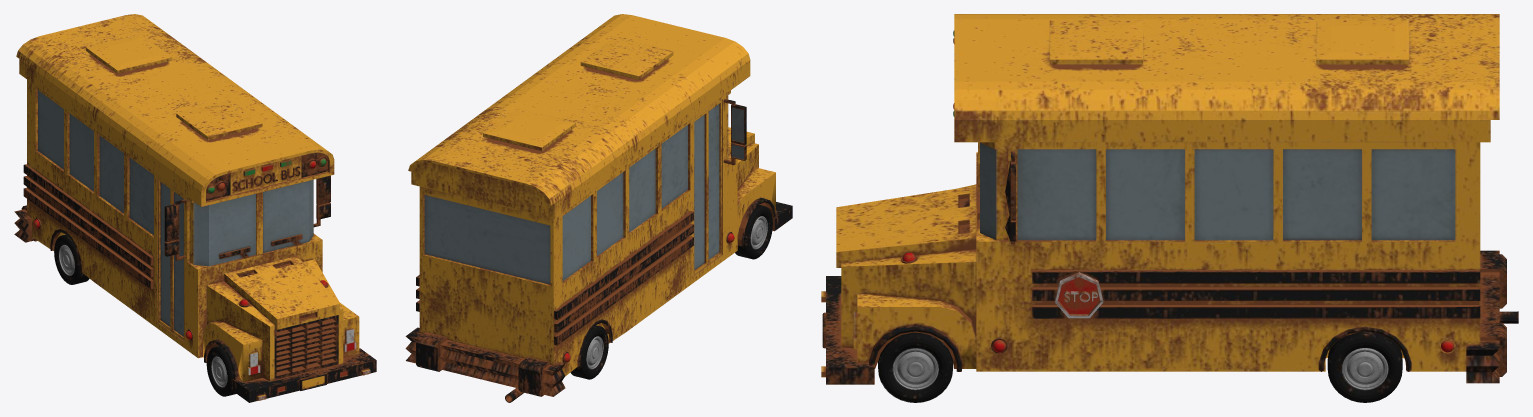
Rendered from TownBus.glb.
3 views of the same model, side by side, from view 1: azimuth 30°, elevation 25°; view 2: azimuth 150°, elevation 25°; view 3: azimuth 270°, elevation 25° (orthographic). The views are drawn at different scales.
Parts seen in each view (by area): view 1: Cube_37, Cube.004_33, Cube.002_35, Cube.015_22, Cube.001_36, Cube.010_27, Cube.003_34, Cube.011_26, Cylinder.002_13, Plane_10, Plane.001_9, side window_23 (+6 smaller); view 2: Cube_37, Cube.004_33, Cube.015_22, Cube.019_18, Cylinder.002_13, Plane_10, Plane.001_9, Cube.003_34, Cube.021_16, Cube.020_17, side window_23, Cube.001_36 (+2 smaller); view 3: Cube_37, Cube.004_33, Cube.015_22, Cylinder.002_13, Cube.002_35, Cube.001_36, Cube.003_34, Plane.001_9, Plane_10, Cube.011_26, Cube.019_18, Cylinder_15 (+4 smaller).
Part boxes in pixels (x1,y1,x2,y2): Cube_37: (27, 79, 322, 358); Cube.004_33: (16, 14, 334, 206); Cube.002_35: (224, 256, 339, 329); Cube.015_22: (23, 164, 153, 288); Cube.001_36: (207, 259, 343, 380); Cube.010_27: (274, 315, 338, 379); Cube.003_34: (203, 303, 359, 382); Cube.011_26: (232, 348, 376, 402); Cylinder.002_13: (54, 234, 236, 396); Plane_10: (176, 100, 262, 140); Plane.001_9: (86, 34, 172, 73); side window_23: (164, 175, 330, 242); Cube_37: (419, 90, 737, 376); Cube.004_33: (408, 14, 750, 219); Cube.015_22: (416, 211, 693, 345); Cube.019_18: (405, 327, 565, 396); Cylinder.002_13: (570, 205, 772, 379); Plane_10: (580, 37, 673, 79); Plane.001_9: (483, 108, 575, 151); Cube.003_34: (737, 167, 775, 238); Cube.021_16: (518, 357, 549, 396); Cube.020_17: (416, 332, 447, 371); side window_23: (731, 104, 746, 145); Cube.001_36: (737, 143, 758, 189); Cube_37: (976, 142, 1480, 371); Cube.004_33: (954, 14, 1499, 142); Cube.015_22: (1032, 270, 1480, 318); Cylinder.002_13: (878, 331, 1402, 402); Cube.002_35: (836, 185, 976, 267); Cube.001_36: (841, 184, 976, 363); Cube.003_34: (857, 293, 976, 368); Plane.001_9: (1316, 20, 1409, 64); Plane_10: (1049, 20, 1142, 64); Cube.011_26: (826, 276, 874, 384); Cube.019_18: (1466, 250, 1499, 383); Cylinder_15: (1055, 272, 1103, 318).
Size of the model in its own units: 3.61 by 4.56 by 9.02.
2 materials, 2 textured.
